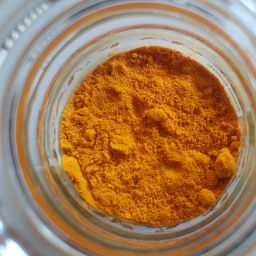Turmeric dried: (62, 47, 239, 228), (84, 79, 209, 202)
